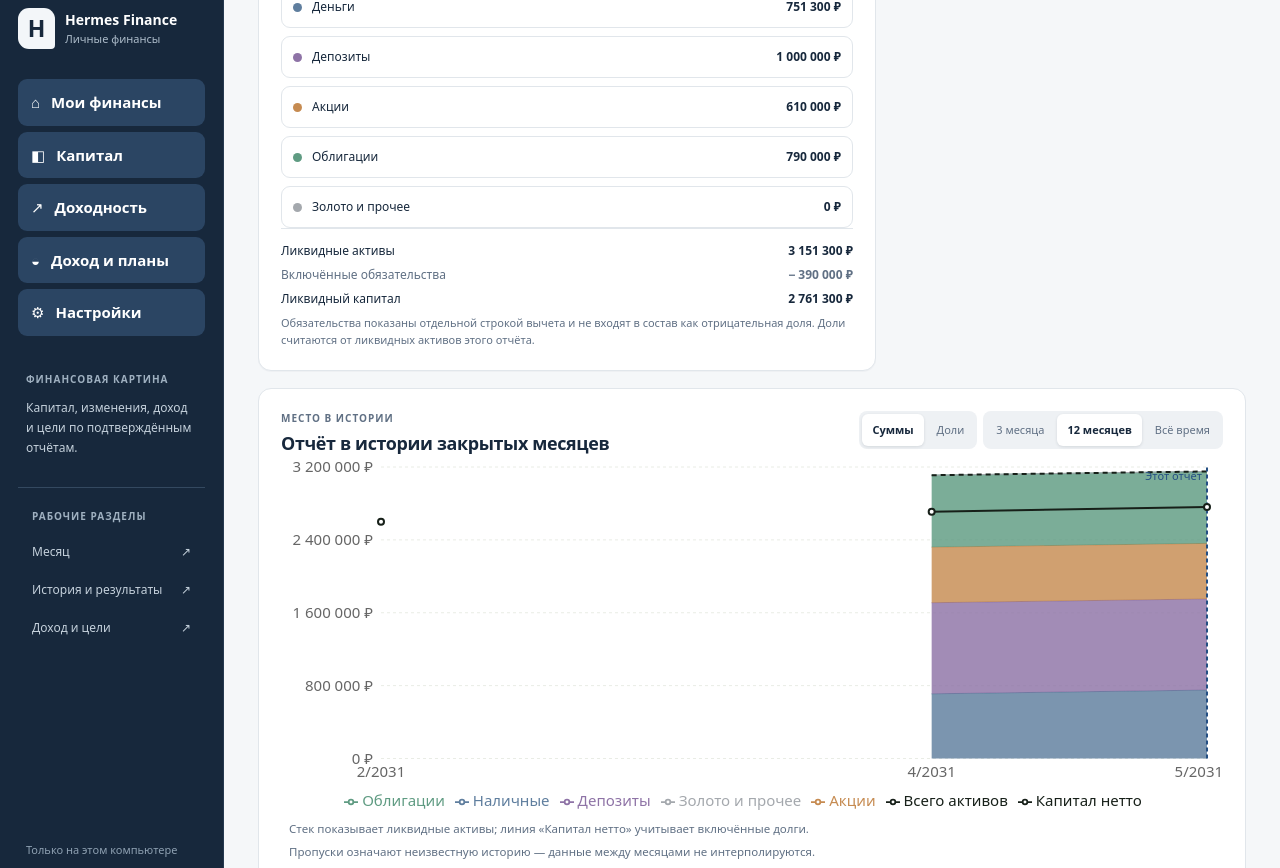
Test case: UI v2 historical report › keeps the history window anchored to the opened report
(page scrolled)
Click the button "3 месяца".
click(1020, 430)  # box 986,414 -> 1054,446
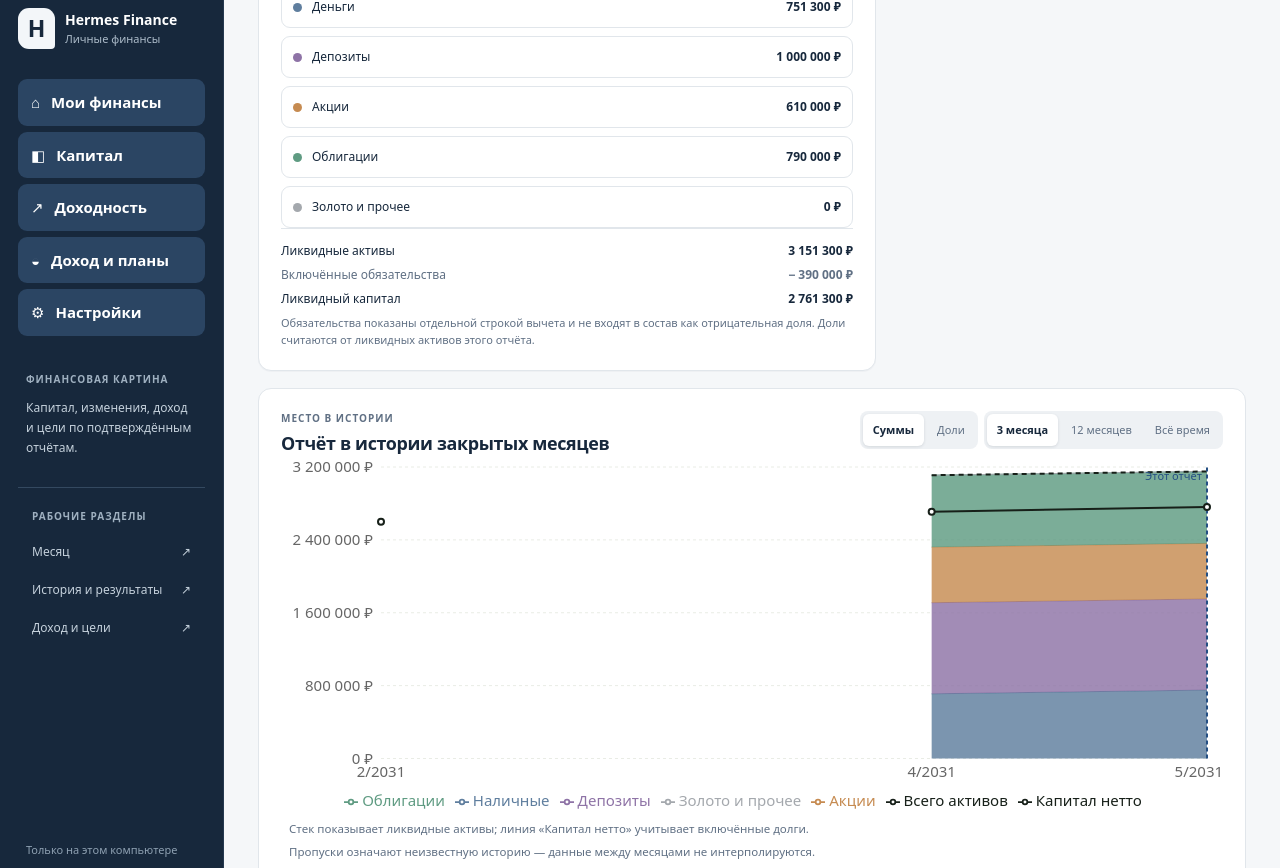
Click the button "Всё время".
click(1182, 430)  # box 1145,414 -> 1220,446
(page scrolled)
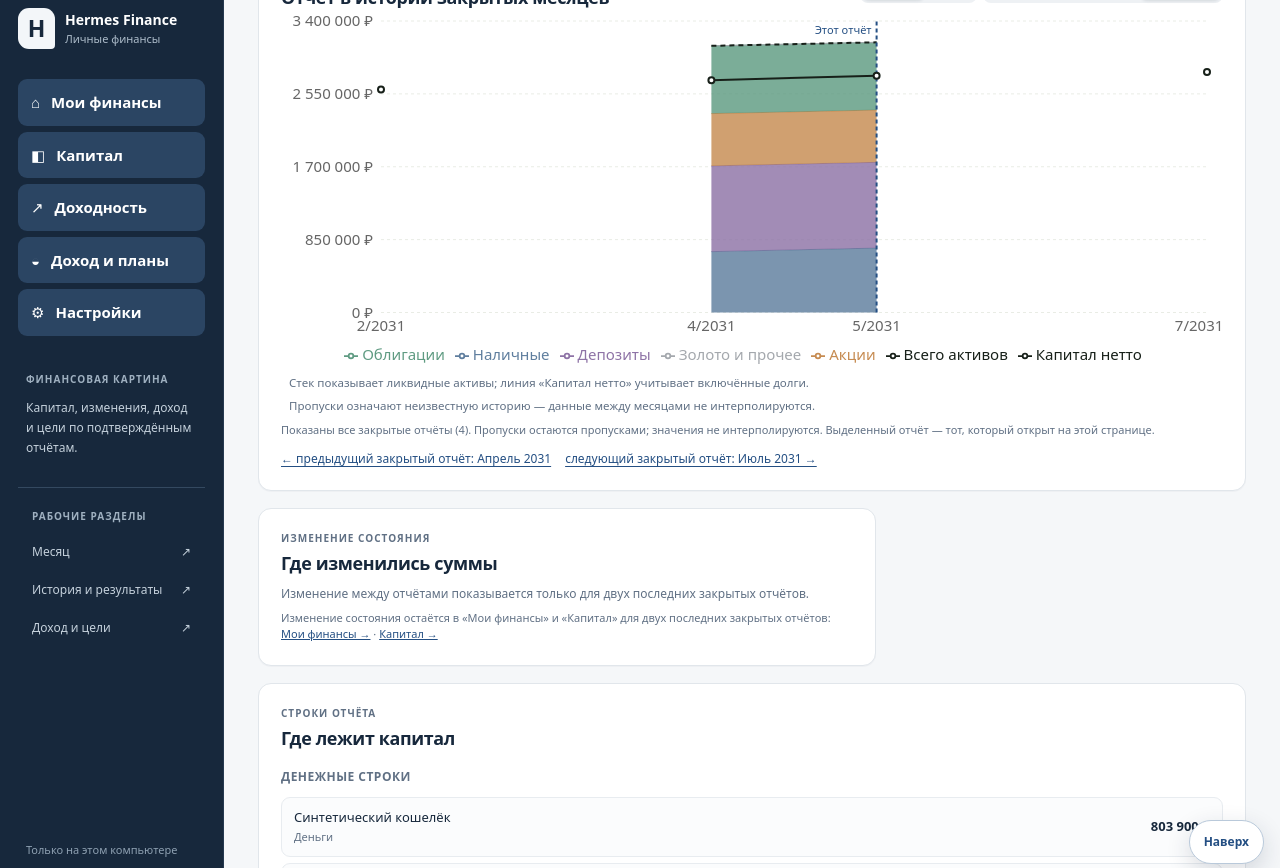
Check: the text "Показаны все закрытые отчёты (4)" is shown, box 281,422 -> 471,437
